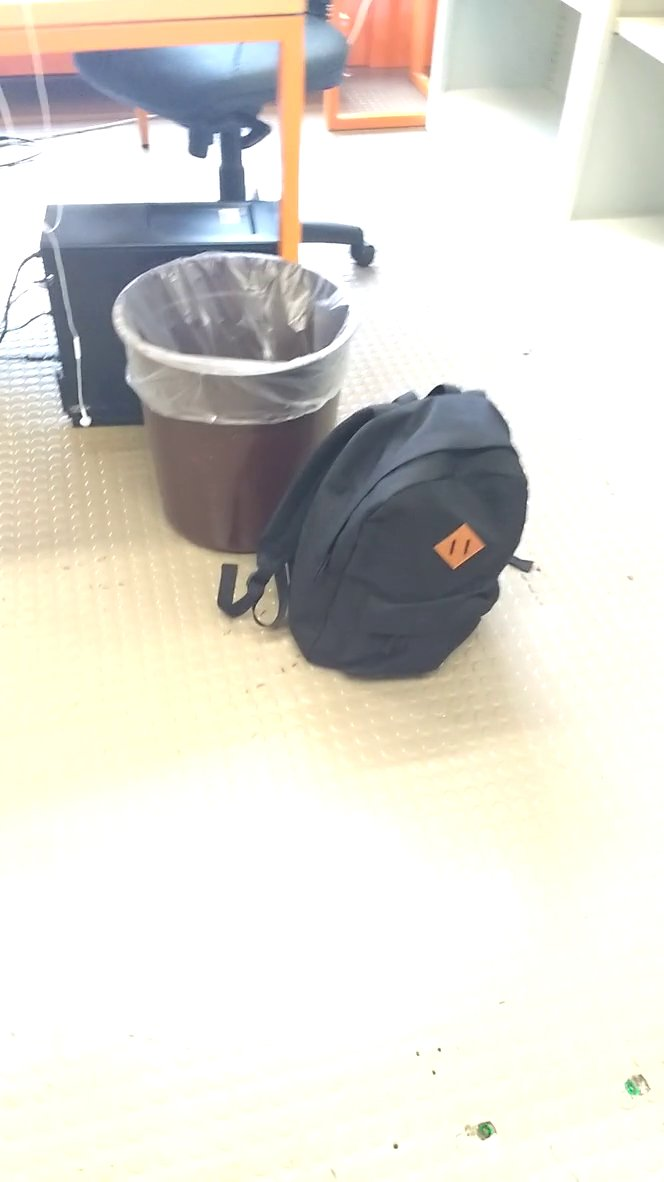bag: (213, 376, 542, 686)
bin: (90, 240, 371, 564)
chair: (68, 5, 373, 192)
